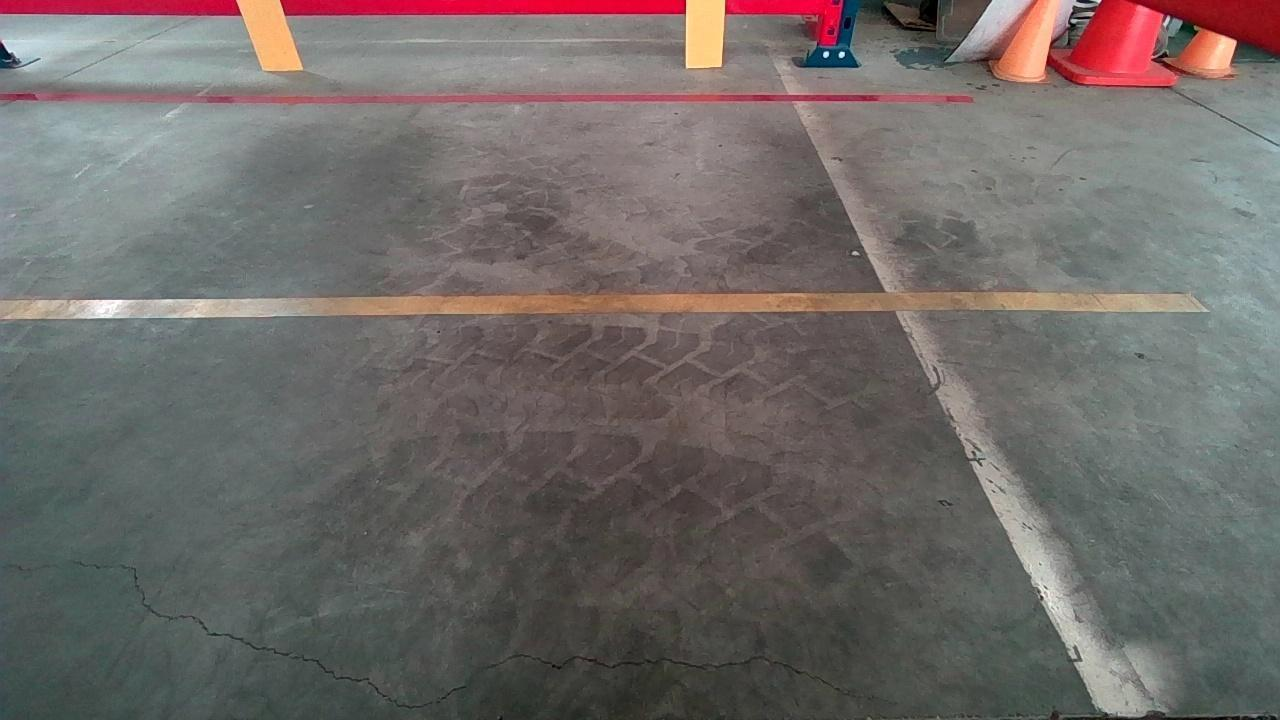h_rack: (0, 0, 823, 14)
orange_strip: (236, 0, 303, 68), (685, 0, 724, 66)
red_line: (0, 88, 981, 102)
yellow_line: (0, 291, 1205, 316)
